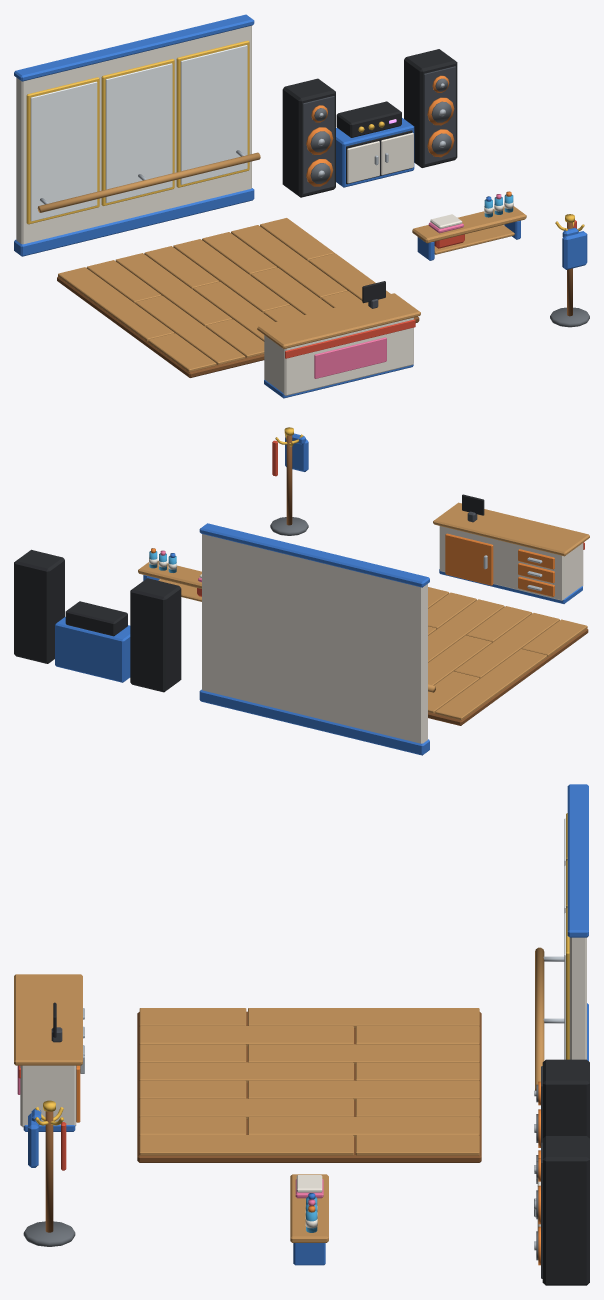
The model's file is dance-studio-set.glb.
3 renders of one model, top to bottom at view 1: azimuth 30°, elevation 25°; view 2: azimuth 150°, elevation 25°; view 3: azimuth 270°, elevation 25°, orthographic. The views are drawn at different scales.
Parts seen in each view (by area): view 1: Wall_Panel, Mirror_0, Mirror_2, Mirror_1, Counter_Body, Counter_Top, Speaker_L, Wall_Cap, Wall_Skirting, Floor_Board_0_1, Speaker_R, Floor_Board_4_1 (+29 smaller); view 2: Wall_Panel, Speaker_L, Speaker_R, Counter_Top, Speaker_Cabinet, Counter_Body, Wall_Cap, Wall_Skirting, Floor_Board_0_1, Floor_Board_1_0, CabinetDoor, Floor_Board_3_0 (+15 smaller); view 3: Speaker_R, Counter_Top, Floor_Board_7_0, Floor_Board_4_1, Floor_Board_2_1, Floor_Board_0_1, Floor_Board_6_1, Floor_Board_5_0, Floor_Board_1_0, Floor_Board_3_0, Floor_Base, Speaker_L (+16 smaller).
Part boxes in pixels (left/top/right/bottom): Wall_Panel: left=16, top=25, right=251, bottom=244; Mirror_0: left=30, top=81, right=97, bottom=221; Mirror_2: left=180, top=45, right=247, bottom=184; Mirror_1: left=105, top=63, right=172, bottom=203; Counter_Body: left=264, top=317, right=413, bottom=395; Counter_Top: left=257, top=293, right=420, bottom=348; Speaker_L: left=282, top=78, right=335, bottom=197; Wall_Cap: left=14, top=14, right=254, bottom=81; Wall_Skirting: left=14, top=188, right=254, bottom=256; Floor_Board_0_1: left=58, top=267, right=174, bottom=341; Speaker_R: left=404, top=49, right=457, bottom=167; Floor_Board_4_1: left=173, top=239, right=289, bottom=312; Wall_Panel: left=202, top=534, right=427, bottom=743; Speaker_L: left=130, top=578, right=181, bottom=692; Speaker_R: left=14, top=549, right=64, bottom=663; Counter_Top: left=433, top=502, right=589, bottom=556; Speaker_Cabinet: left=55, top=617, right=130, bottom=682; Counter_Body: left=439, top=526, right=583, bottom=600; Wall_Cap: left=199, top=523, right=429, bottom=587; Wall_Skirting: left=199, top=689, right=429, bottom=755; Floor_Board_0_1: left=435, top=649, right=547, bottom=720; Floor_Board_1_0: left=454, top=613, right=559, bottom=678; CabinetDoor: left=445, top=533, right=493, bottom=585; Floor_Board_3_0: left=428, top=599, right=504, bottom=662; Speaker_R: left=542, top=1136, right=589, bottom=1285; Counter_Top: left=14, top=974, right=82, bottom=1065; Floor_Board_7_0: left=139, top=1135, right=353, bottom=1155; Floor_Board_4_1: left=248, top=1080, right=479, bottom=1100; Floor_Board_2_1: left=248, top=1044, right=479, bottom=1064; Floor_Board_0_1: left=248, top=1008, right=479, bottom=1028; Floor_Board_6_1: left=248, top=1117, right=479, bottom=1137; Floor_Board_5_0: left=139, top=1098, right=353, bottom=1119; Floor_Board_1_0: left=139, top=1026, right=353, bottom=1046; Floor_Board_3_0: left=139, top=1062, right=353, bottom=1082; Floor_Base: left=137, top=1011, right=481, bottom=1162; Speaker_L: left=542, top=1059, right=589, bottom=1138.
Bounding box in the file's own units: 29.63 × 12 × 26.77.
